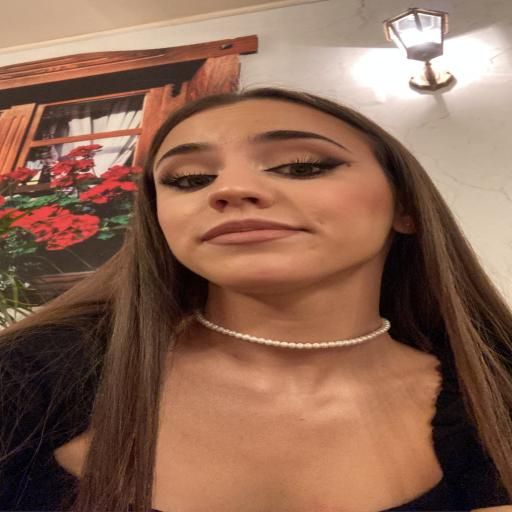masa: (156, 112, 400, 290)
